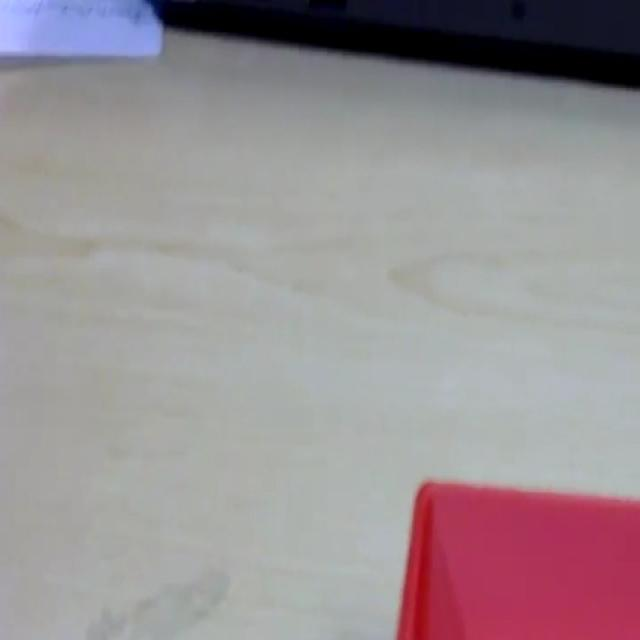red_block: (394, 476, 638, 637)
